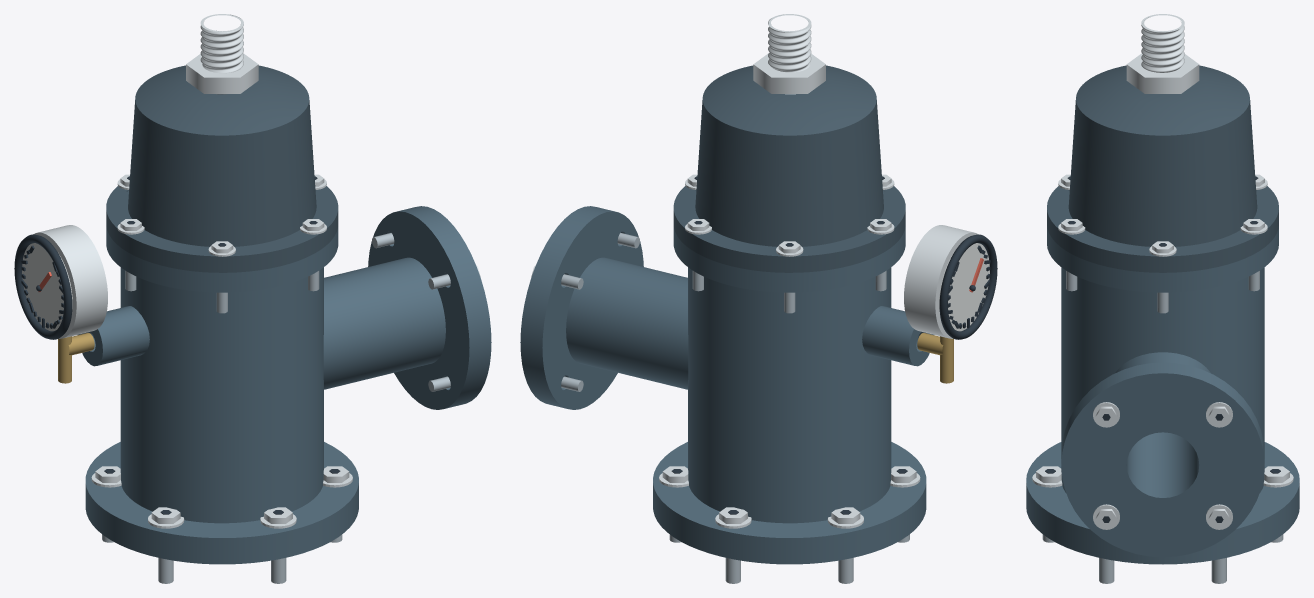
Rendered from minimum.glb.
The picture shows the model from 3 angles, left to right: view 1: azimuth 30°, elevation 25°; view 2: azimuth 150°, elevation 25°; view 3: azimuth 270°, elevation 25°; orthographic projection.
Visible parts, largest first — view 1: Thân đúc, Nắp lò xo và vít chỉnh, Đồng hồ áp suất đường ra, Thân van áp suất tối thiểu, Vít chỉnh; view 2: Thân đúc, Nắp lò xo và vít chỉnh, Đồng hồ áp suất đường ra, Thân van áp suất tối thiểu, Vít chỉnh; view 3: Thân đúc, Nắp lò xo và vít chỉnh, Thân van áp suất tối thiểu, Vít chỉnh.
Boxes of the visible parts, box(x1,y1,x2,y2) form: Thân đúc: box(78, 206, 491, 564); Nắp lò xo và vít chỉnh: box(106, 53, 338, 313); Đồng hồ áp suất đường ra: box(14, 225, 107, 383); Thân van áp suất tối thiểu: box(91, 233, 480, 583); Vít chỉnh: box(200, 14, 243, 94); Thân đúc: box(520, 206, 933, 564); Nắp lò xo và vít chỉnh: box(673, 53, 905, 313); Đồng hồ áp suất đường ra: box(904, 225, 997, 383); Thân van áp suất tối thiểu: box(531, 233, 920, 583); Vít chỉnh: box(768, 14, 811, 94); Thân đúc: box(1026, 226, 1299, 564); Nắp lò xo và vít chỉnh: box(1047, 53, 1278, 313); Thân van áp suất tối thiểu: box(1032, 402, 1293, 583); Vít chỉnh: box(1141, 14, 1184, 72).
Size of the model in its own units: 1.31 by 1.57 by 0.754.
